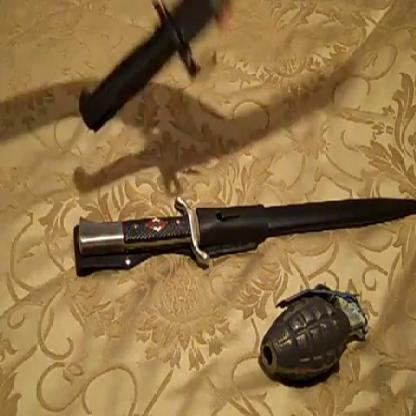Grenade: (261, 282, 369, 383)
Knife: (75, 195, 416, 269), (78, 1, 219, 133)
